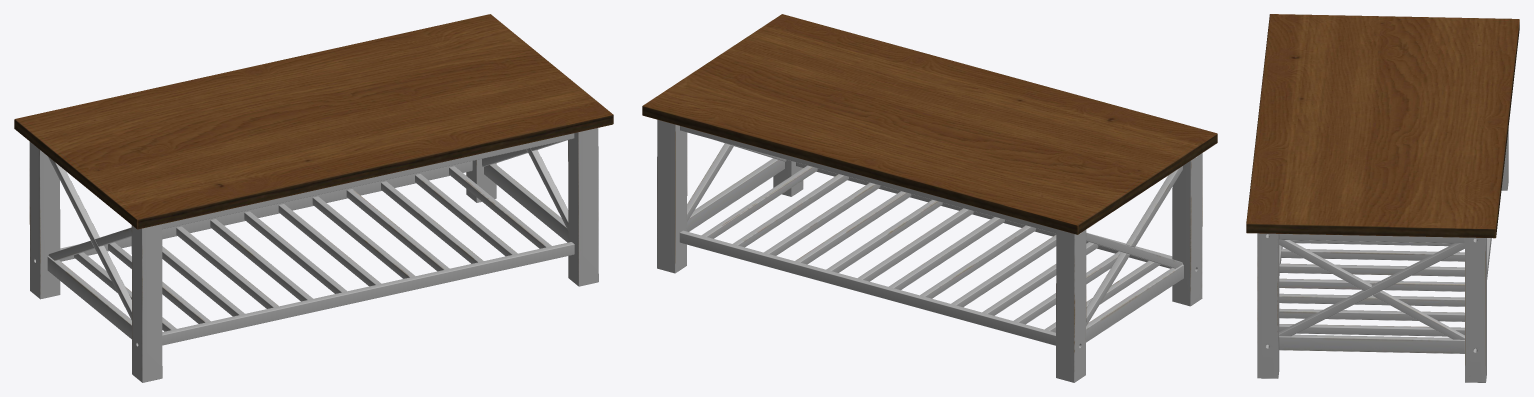
The model's file is Table.glb.
3 views of the same model, side by side, from view 1: azimuth 30°, elevation 25°; view 2: azimuth 150°, elevation 25°; view 3: azimuth 270°, elevation 25° (orthographic). The views are drawn at different scales.
Visible parts, largest first — view 1: Benjara Viki 47 Inch Coffee Table; view 2: Benjara Viki 47 Inch Coffee Table; view 3: Benjara Viki 47 Inch Coffee Table.
Part boxes in pixels (x1,y1,x2,y2): Benjara Viki 47 Inch Coffee Table: [14, 14, 613, 382]; Benjara Viki 47 Inch Coffee Table: [642, 14, 1217, 382]; Benjara Viki 47 Inch Coffee Table: [1246, 14, 1519, 382].
Size of the model in its own units: 1.65 by 0.5679 by 0.8806.
Materials: 1 (1 with a texture image).
